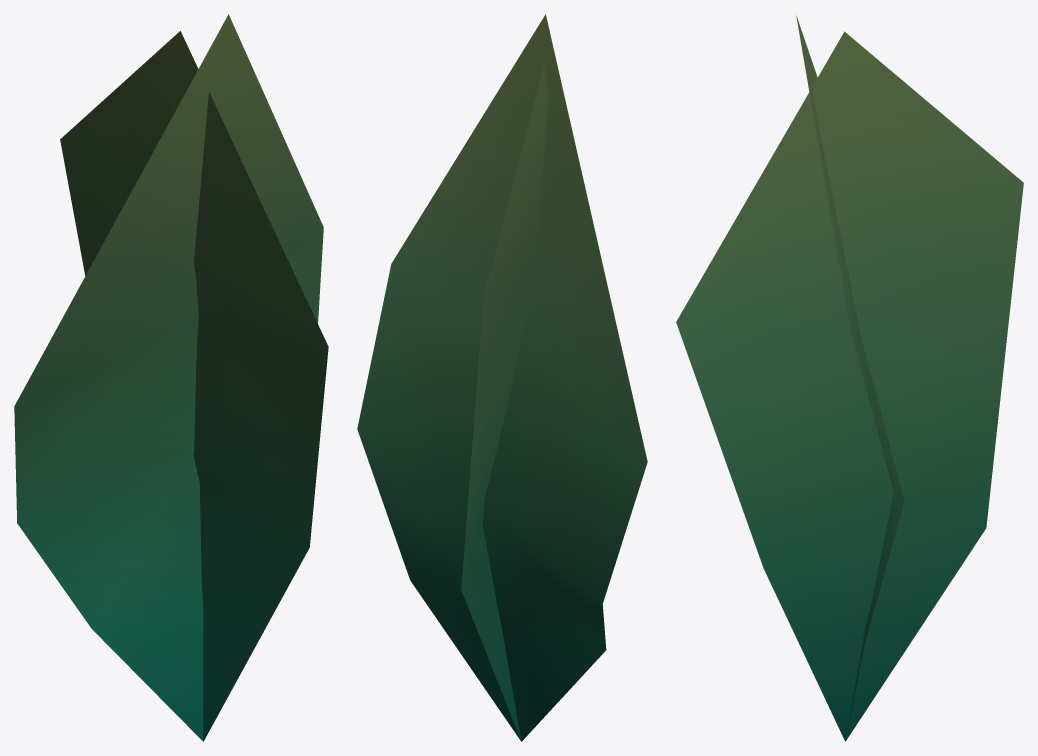
The model's file is moss_01_5.glb.
3 renders of one model, left to right at view 1: azimuth 30°, elevation 25°; view 2: azimuth 150°, elevation 25°; view 3: azimuth 270°, elevation 25°, orthographic. The views are drawn at different scales.
Visible parts, largest first — view 1: moss_01_f_LOD0; view 2: moss_01_f_LOD0; view 3: moss_01_f_LOD0.
Boxes of the visible parts, x1,y1,x2,y2 form: moss_01_f_LOD0: (14, 14, 328, 741); moss_01_f_LOD0: (357, 14, 647, 741); moss_01_f_LOD0: (676, 16, 1023, 741).
Size of the model in its own units: 0.0128 by 0.0301 by 0.013.
